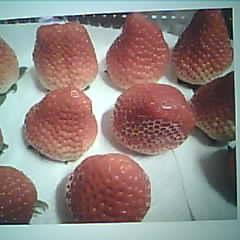straw-ripe: (67, 154, 153, 225), (25, 90, 100, 161), (31, 24, 98, 91), (175, 10, 236, 82), (107, 17, 170, 86)
